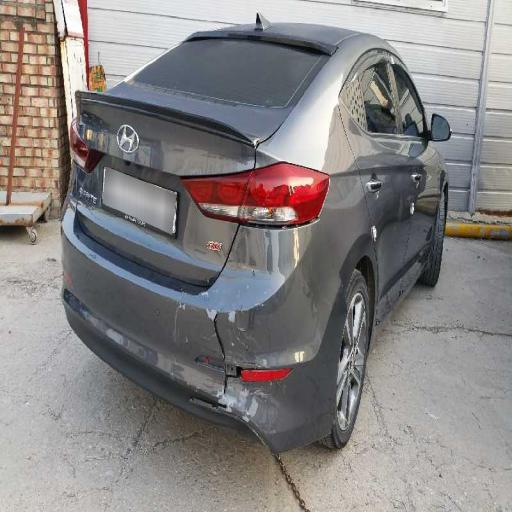broken: (198, 293, 320, 477)
scratch: (200, 163, 328, 272)
